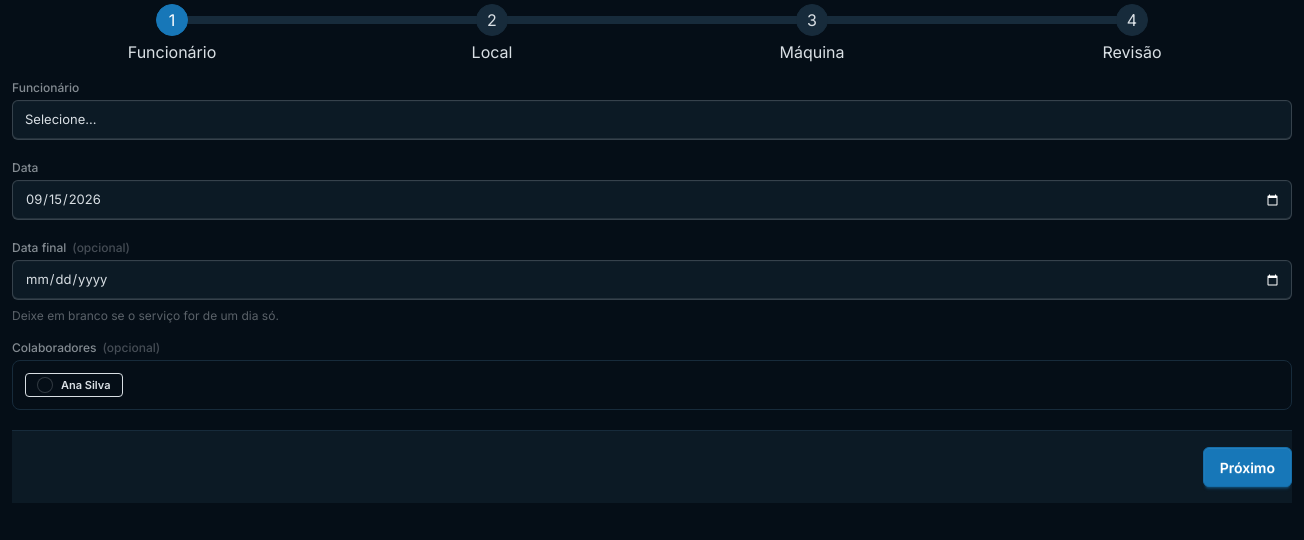
it: JobStepper › não avança da etapa 1 se campos estão vazios
The image size is (1304, 540).
What coordinates should you click on to do the following:
click the button "Próximo"
I would click on:
 (1247, 467)
Its box is [1203, 447, 1292, 487].
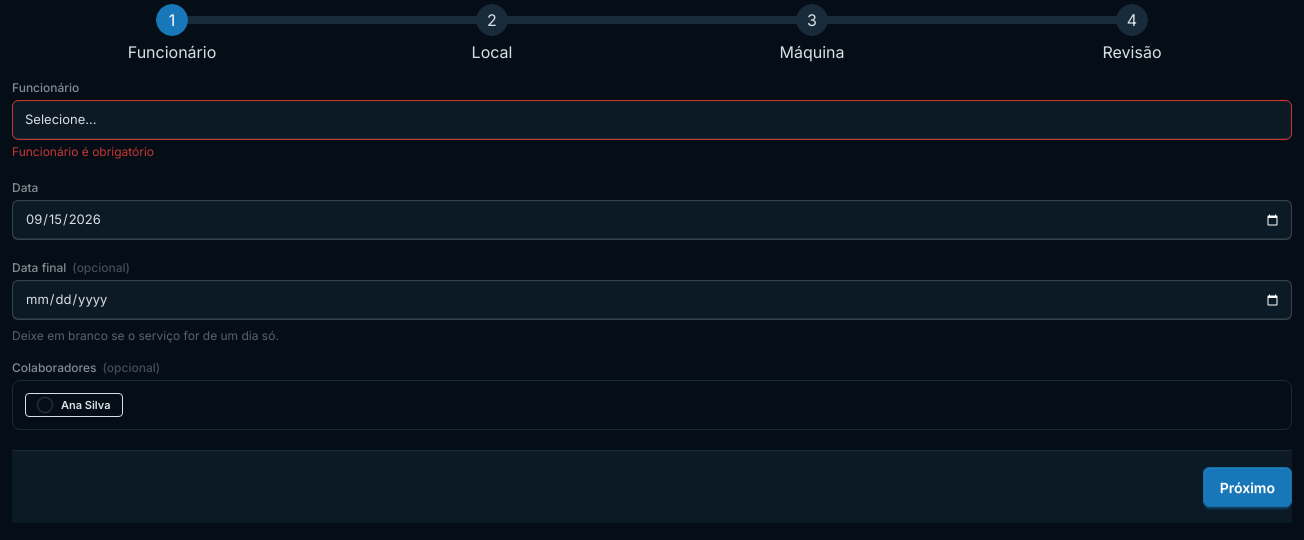
Now the text "Funcionário é obrigatório" is shown, box [12, 144, 154, 159]
